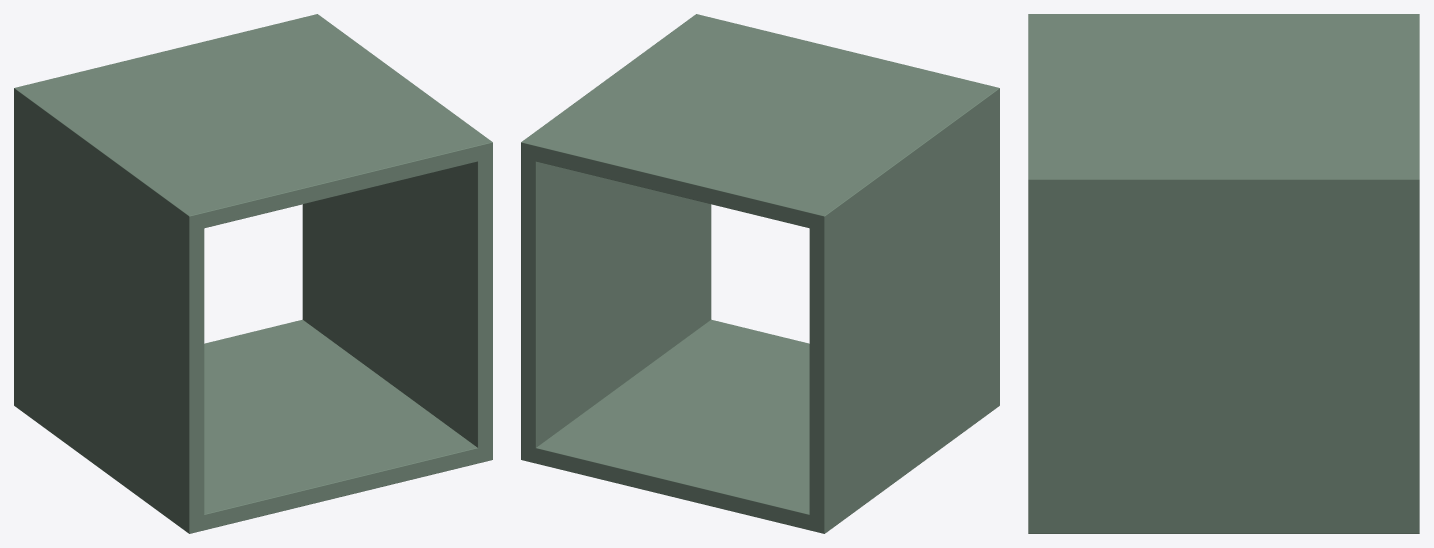
Rendered from MOD_1X1_A_O_VA.glb.
3 renders of one model, left to right at view 1: azimuth 30°, elevation 25°; view 2: azimuth 150°, elevation 25°; view 3: azimuth 270°, elevation 25°, orthographic. The views are drawn at different scales.
Size of the model in its own units: 360 by 360 by 360.
